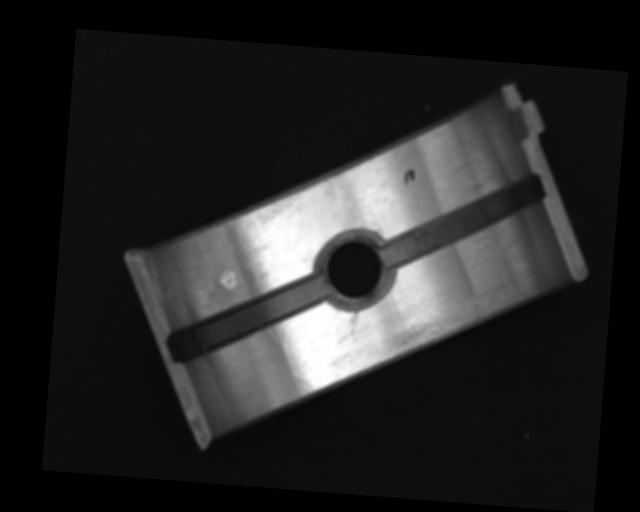blot: (402, 167, 415, 186)
bruise: (218, 268, 237, 290)
gap: (380, 165, 546, 277), (166, 268, 325, 369)
hole: (314, 228, 399, 308)
nick: (279, 340, 319, 396), (349, 309, 358, 336)
scratch: (385, 283, 533, 370)
